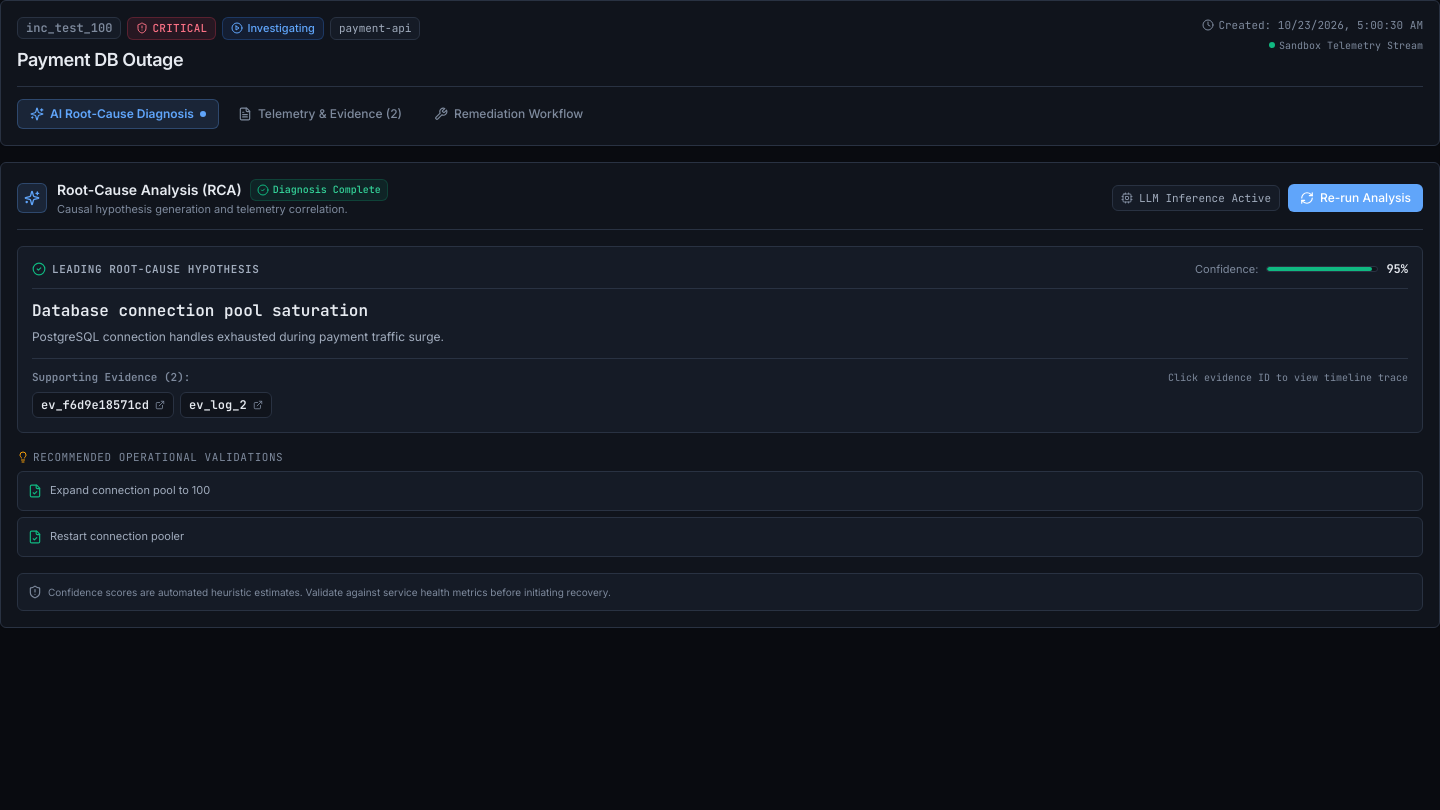
Evidence Link Navigation & URL-State Synchronization › REGRESSION FIX: clicking an evidence ID link on RCA screen updates URL AND immediately renders evidence in visible UI
The image size is (1440, 810).
Expected: the heading "Database connection pool saturation" is shown, [32,300,368,320]
Note: Click the evidence link
Step 1. Click the link with test id "evidence-link-ev_f6d9e18571cd" → (103, 404), box [32,392,174,418]
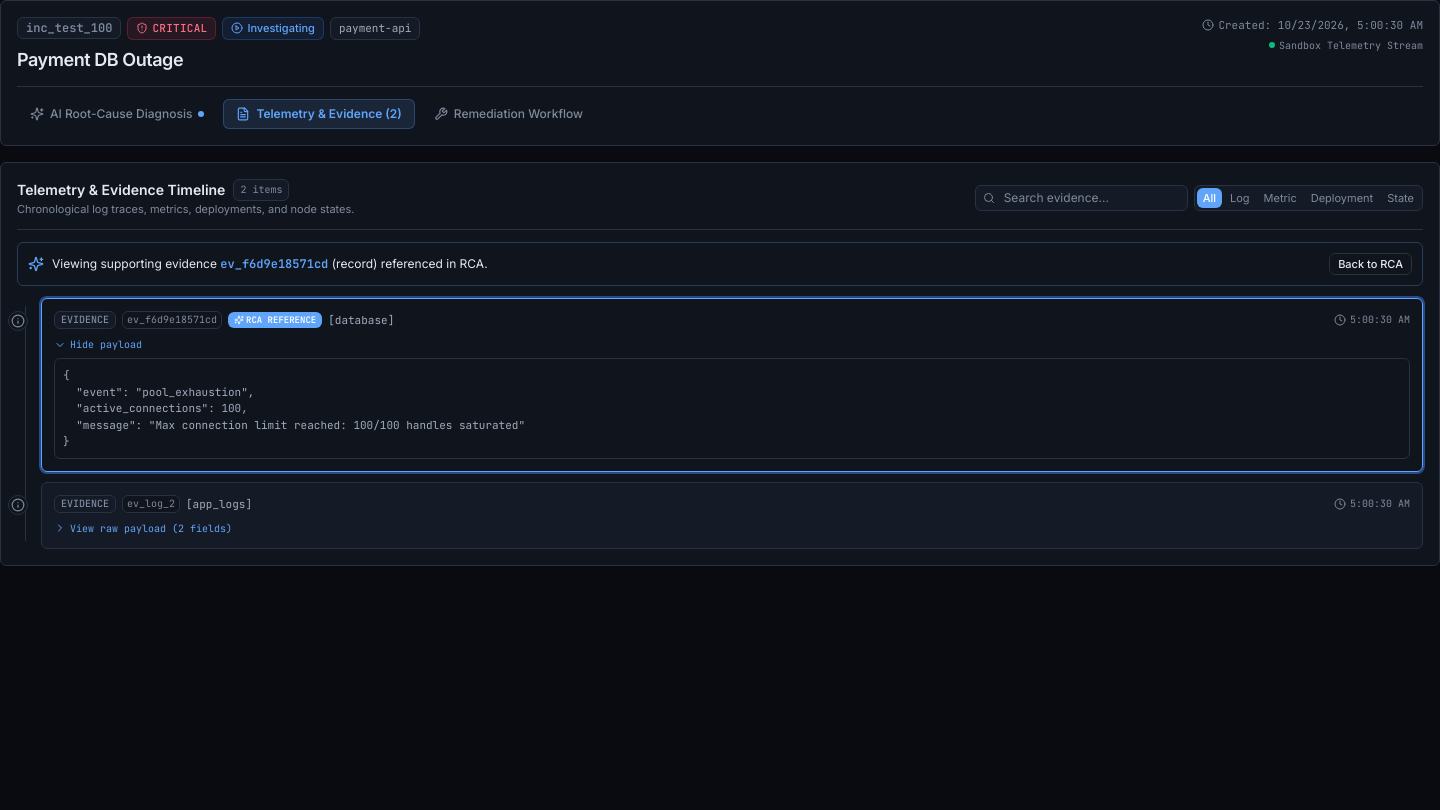
Result: the element with test id "evidence-timeline" is shown at [0,162,1439,566]
Result: the text "Max connection limit reached: 100/100 handles saturated" is shown at [63,368,525,448]
Result: the text "Viewing supporting evidence" is shown at [52,256,220,271]
